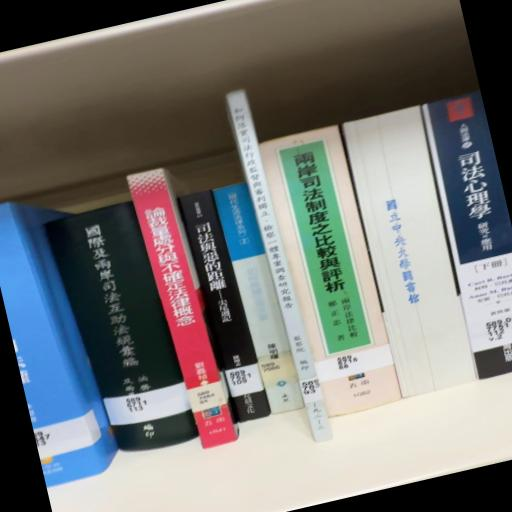backward: (344, 107, 478, 397)
book: (46, 197, 202, 463), (127, 170, 238, 458), (179, 193, 276, 440)
